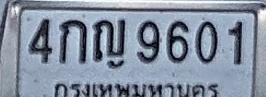0: (196, 20, 217, 64)
1: (228, 20, 242, 64)
4: (29, 18, 52, 63)
6: (166, 20, 188, 63)
9: (136, 19, 160, 64)
A01: (59, 19, 87, 64)
A13: (93, 18, 126, 62)
BKK: (52, 78, 224, 97)
